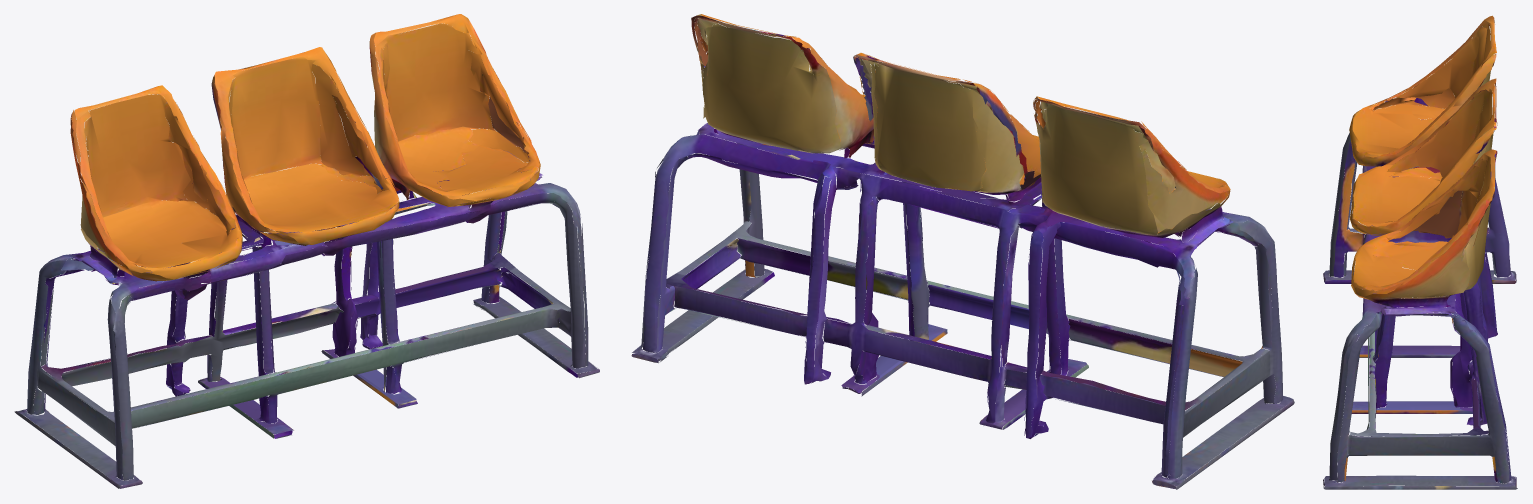
Rendered from seats.glb.
3 views of the same model, side by side, from view 1: azimuth 30°, elevation 25°; view 2: azimuth 150°, elevation 25°; view 3: azimuth 270°, elevation 25° (orthographic). The views are drawn at different scales.
Parts seen in each view (by area): view 1: seats; view 2: seats; view 3: seats.
Part boxes in pixels (left/top/right/bottom): seats: left=14, top=14, right=599, bottom=488; seats: left=631, top=14, right=1294, bottom=489; seats: left=1323, top=15, right=1517, bottom=489.
Size of the model in its own units: 1.38 by 0.84 by 0.5292.
1 material, 1 textured.
